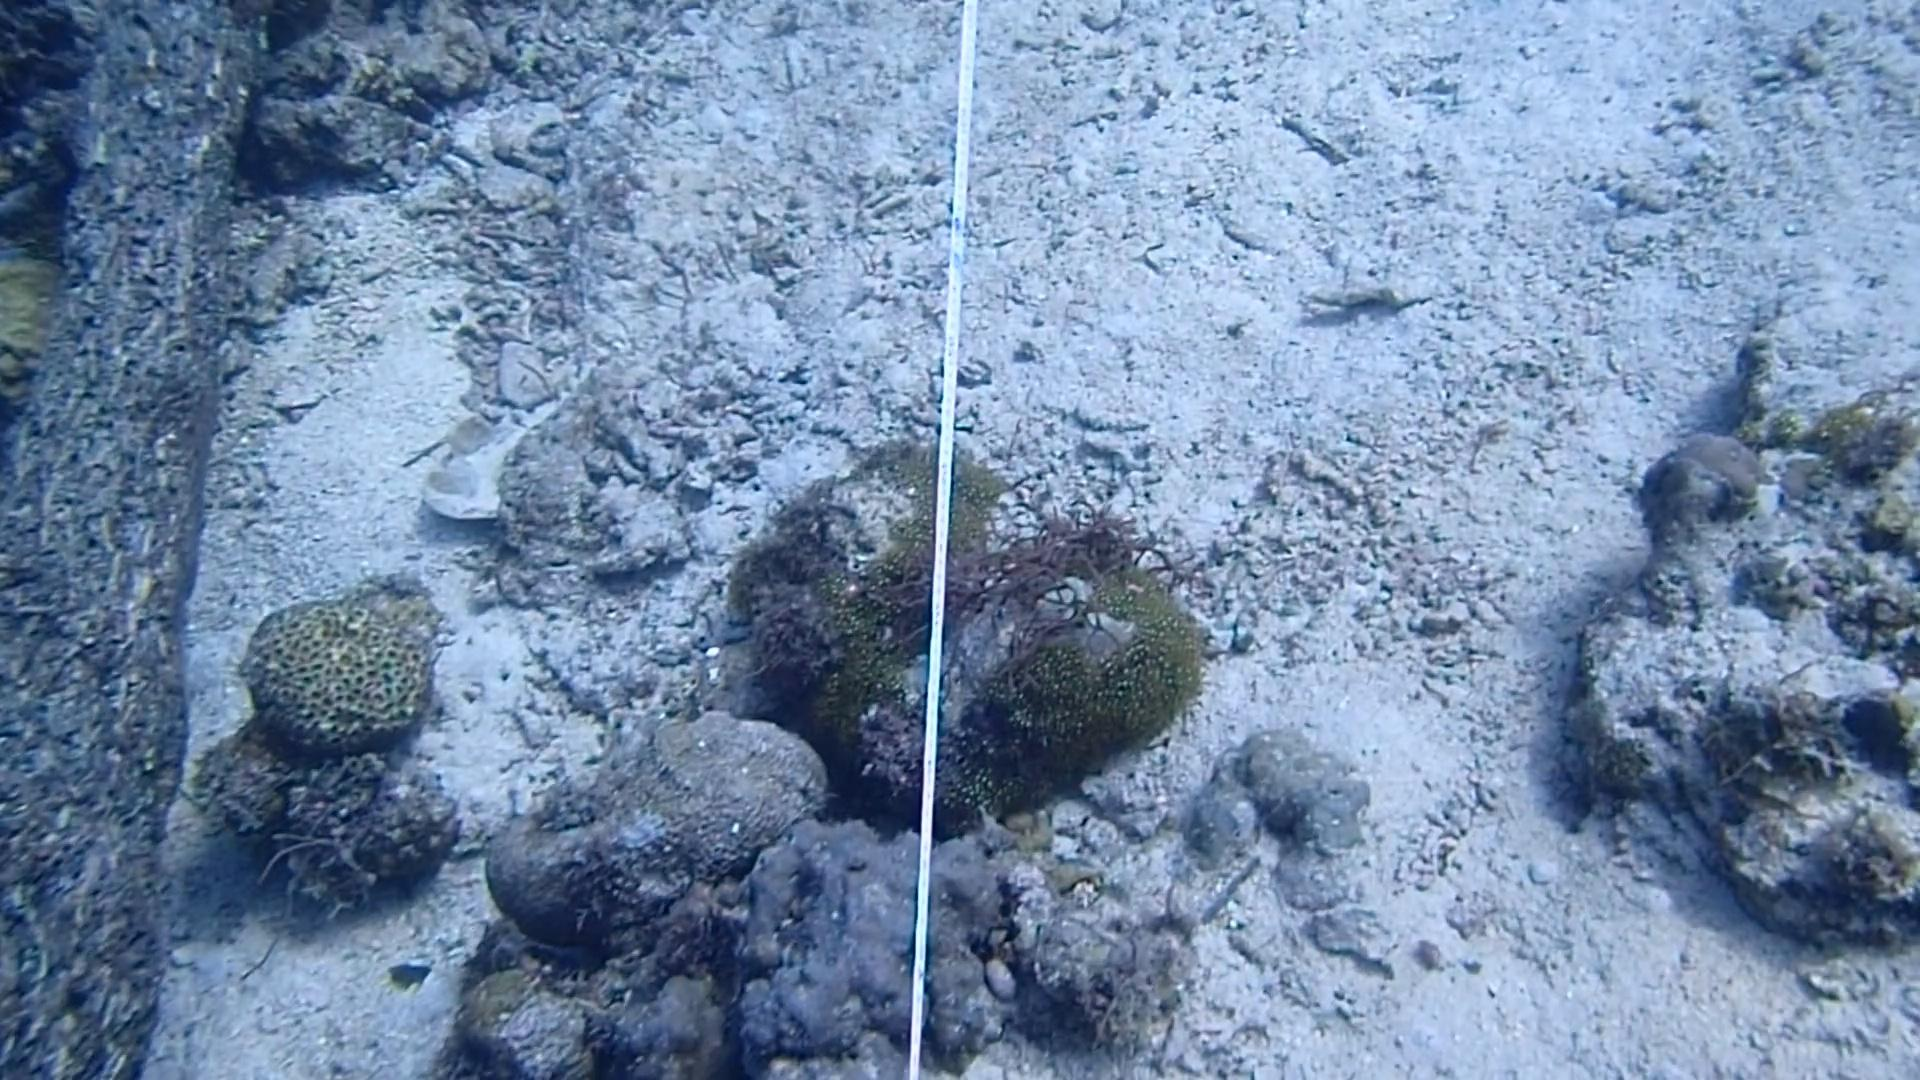UI: (378, 952, 446, 1004)
